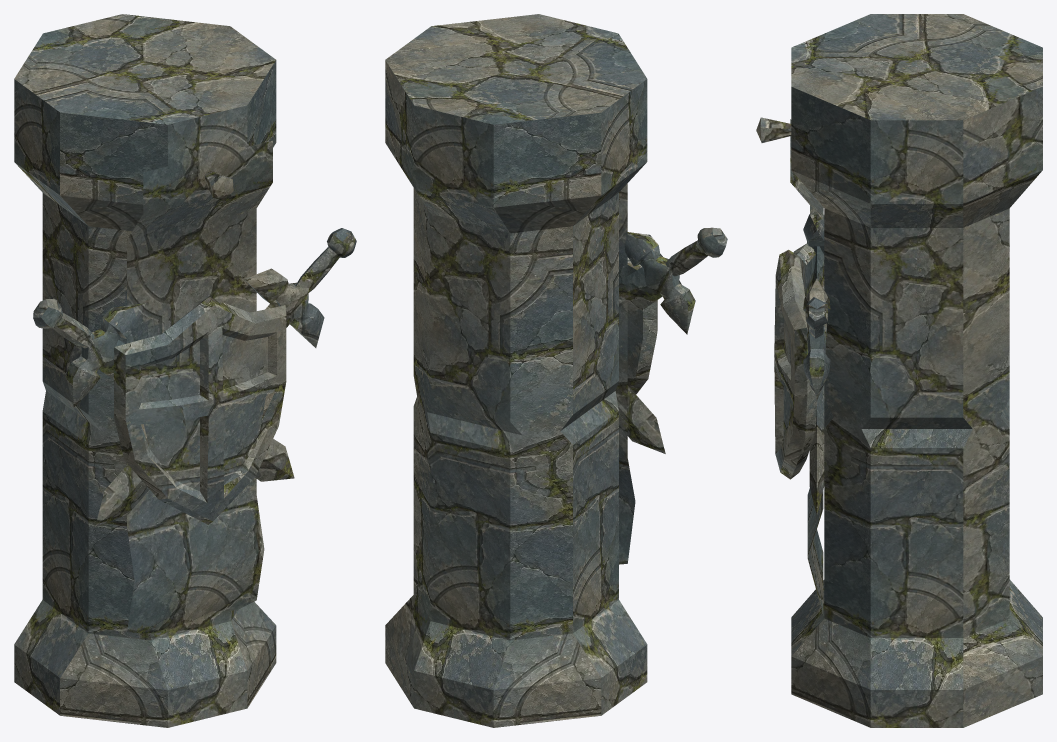
The model's file is pillar_decorated_finished.glb.
3 views of the same model, side by side, from view 1: azimuth 30°, elevation 25°; view 2: azimuth 150°, elevation 25°; view 3: azimuth 270°, elevation 25° (orthographic).
Visible parts, largest first — view 1: pillar_decorated.001; view 2: pillar_decorated.001; view 3: pillar_decorated.001.
Part boxes in pixels (left/top/right/bottom): pillar_decorated.001: left=14, top=14, right=356, bottom=727; pillar_decorated.001: left=385, top=14, right=727, bottom=727; pillar_decorated.001: left=756, top=14, right=1042, bottom=727.
Size of the model in its own units: 2.23 by 4 by 1.71.
1 material, 1 textured.
